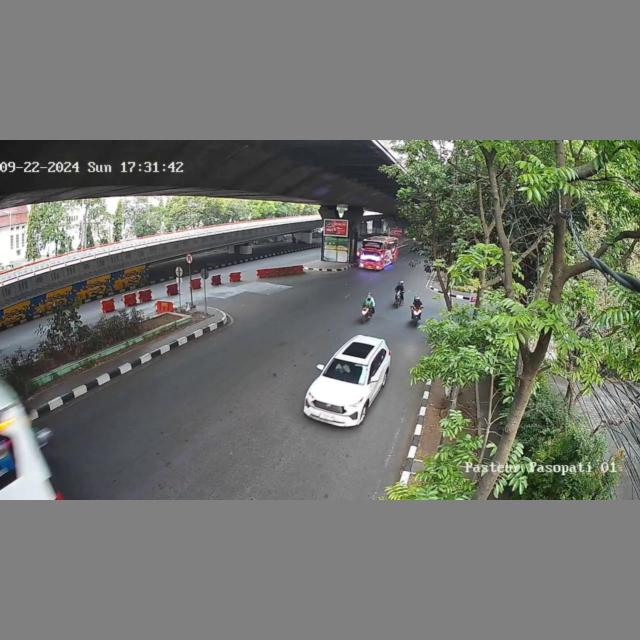windshield: (324, 357, 369, 385)
